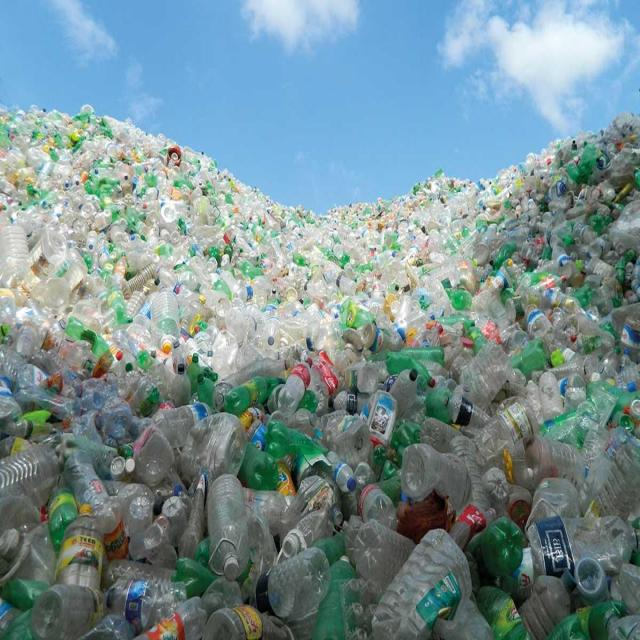heap: (1, 97, 640, 640)
plastic_bottle: (369, 521, 475, 639), (14, 310, 114, 401), (526, 509, 639, 576), (284, 239, 375, 304), (473, 400, 547, 472), (258, 553, 333, 620), (208, 472, 251, 583), (401, 439, 470, 505), (59, 507, 107, 593), (150, 280, 193, 369), (282, 351, 315, 418)
